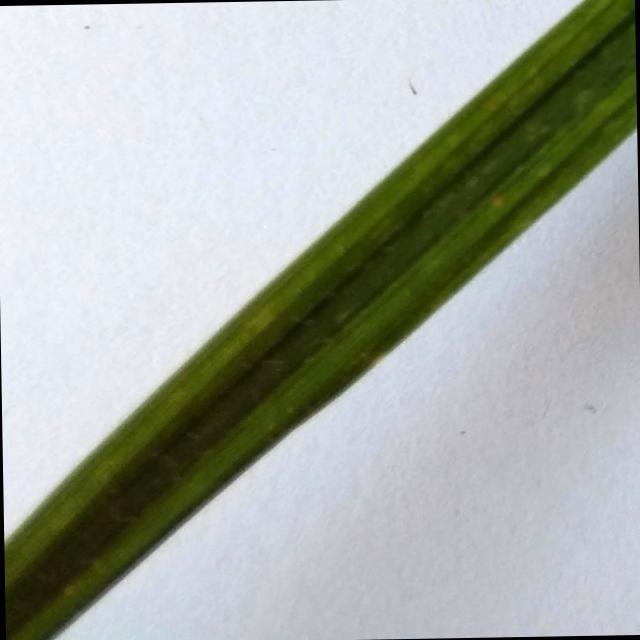Rice_Healthy: (4, 0, 636, 640)
